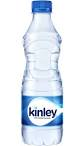kinley: (26, 99, 60, 126)
plastic: (22, 2, 68, 146)
